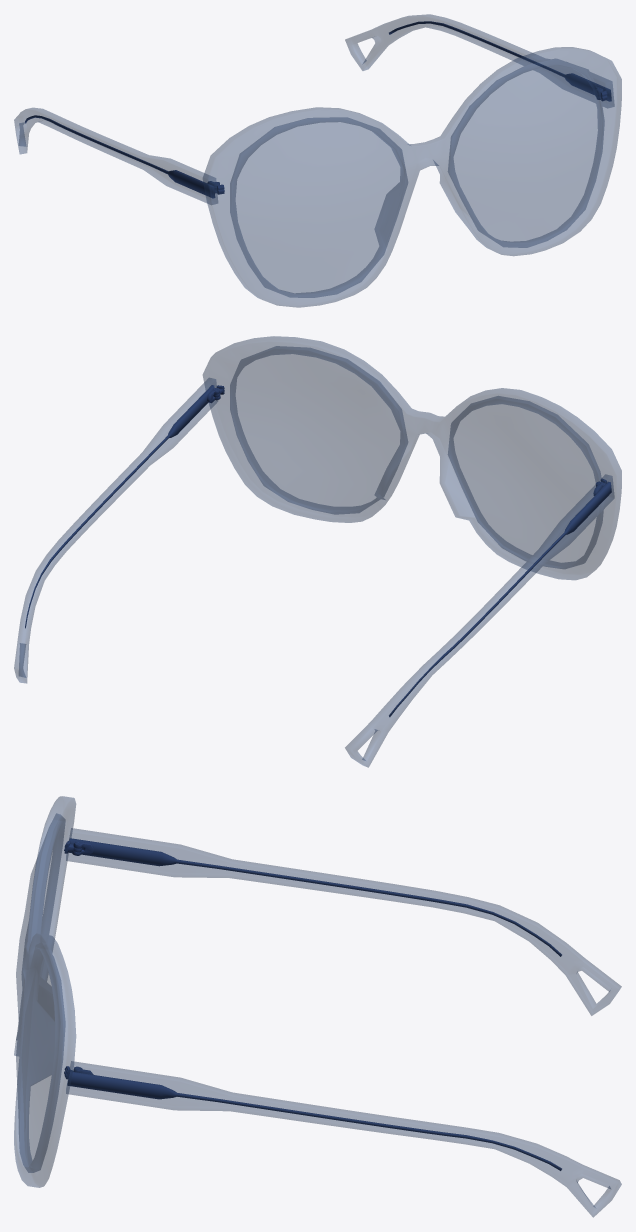
The model's file is pilot-cift-kopru-gece-mavisi.glb.
3 views of the same model, one above another, from view 1: azimuth 30°, elevation 25°; view 2: azimuth 150°, elevation 25°; view 3: azimuth 270°, elevation 25° (orthographic). The views are drawn at different scales.
Visible parts, largest first — view 1: OPTIK_PRODUCT_294; view 2: OPTIK_PRODUCT_294; view 3: OPTIK_PRODUCT_294.
Part boxes in pixels (x1=…): OPTIK_PRODUCT_294: x1=14, y1=14, x2=621, y2=307; OPTIK_PRODUCT_294: x1=14, y1=336, x2=621, y2=767; OPTIK_PRODUCT_294: x1=14, y1=796, x2=621, y2=1217.
Size of the model in its own units: 0.1553 by 0.0692 by 0.1637.
